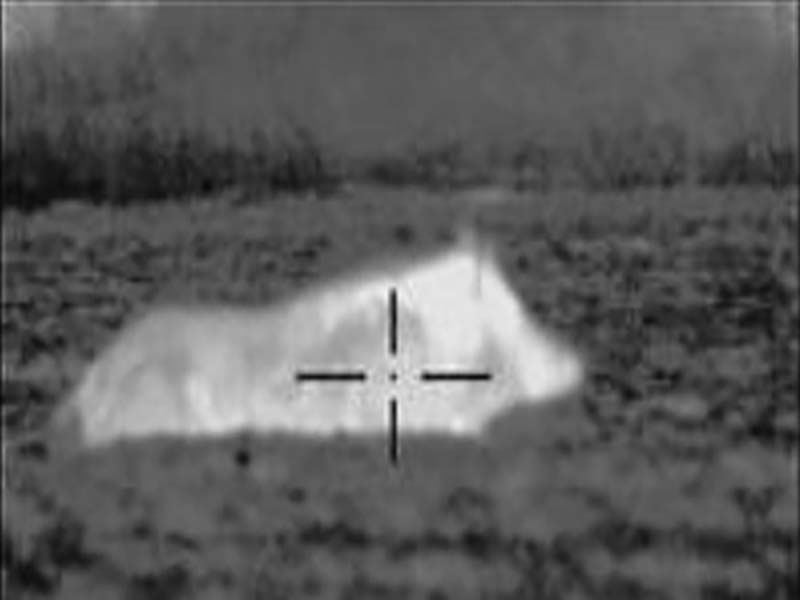cinghiale: (91, 236, 591, 447)
